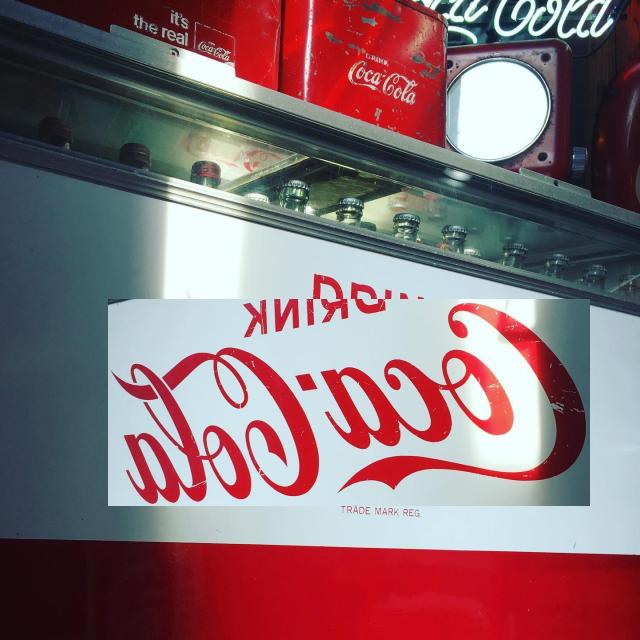coca-cola: (108, 299, 590, 506)
